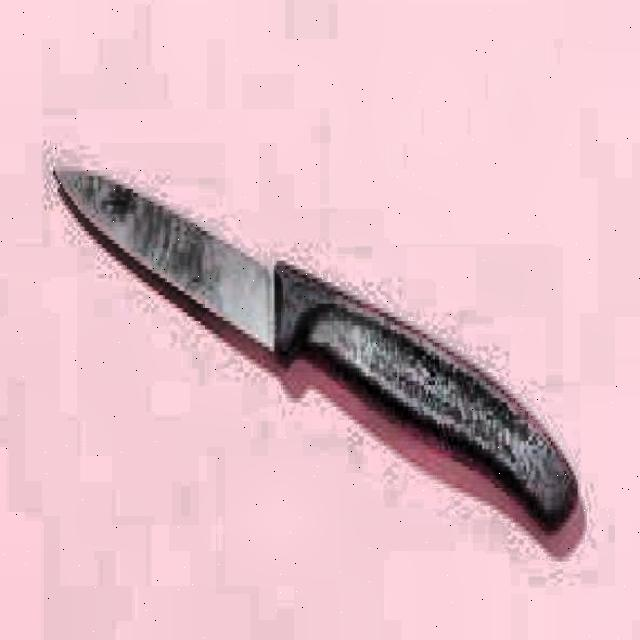knife: (46, 159, 586, 549)
